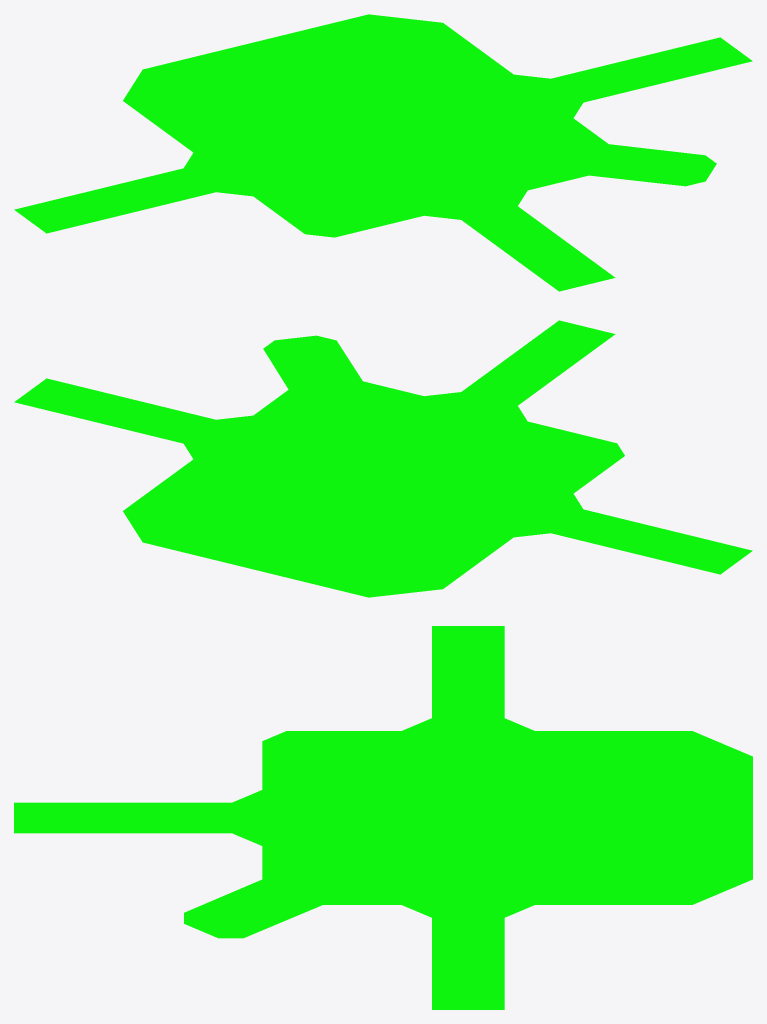
File: s06b_td2-floor.glb
3 renders of one model, top to bottom at view 1: azimuth 30°, elevation 25°; view 2: azimuth 150°, elevation 25°; view 3: azimuth 270°, elevation 25°, orthographic. The views are drawn at different scales.
Visible parts, largest first — view 1: collision_floor-colonly; view 2: collision_floor-colonly; view 3: collision_floor-colonly.
Part boxes in pixels (bbox=[...]): collision_floor-colonly: bbox=[14, 14, 752, 291]; collision_floor-colonly: bbox=[14, 320, 752, 597]; collision_floor-colonly: bbox=[14, 626, 752, 1009].
Size of the model in its own units: 75 by 0 by 61.
